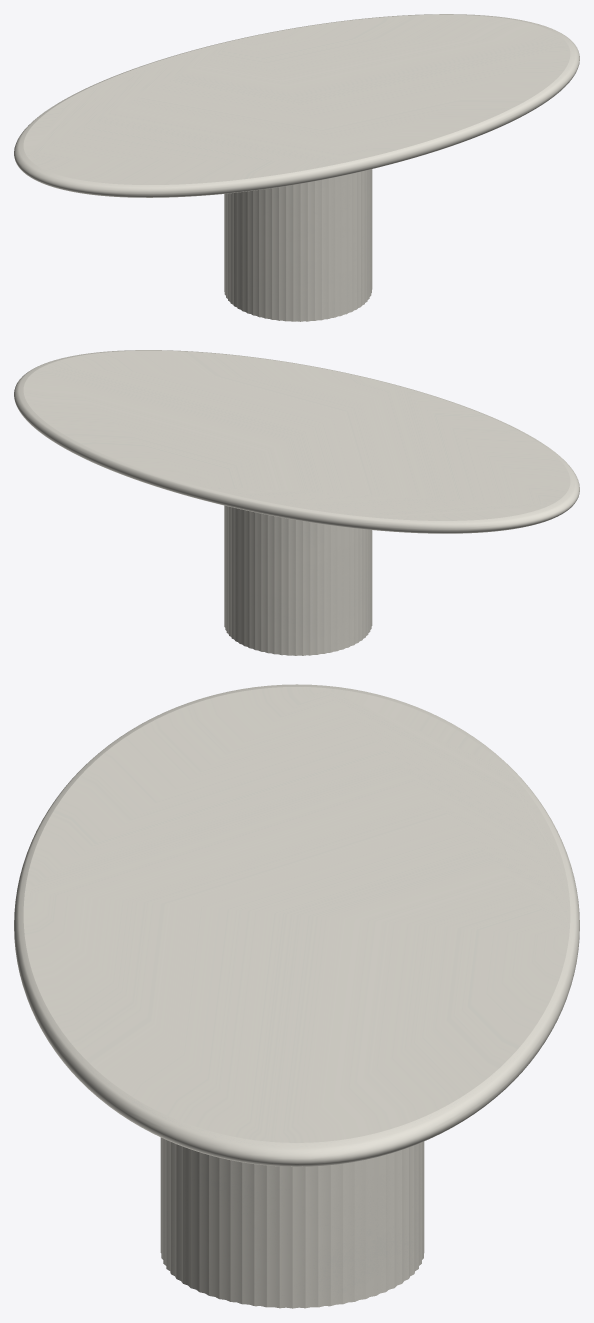
The model's file is pale_ellips_round_ripple.glb.
3 views of the same model, one above another, from view 1: azimuth 30°, elevation 25°; view 2: azimuth 150°, elevation 25°; view 3: azimuth 270°, elevation 25° (orthographic). The views are drawn at different scales.
Visible parts, largest first — view 1: round_ellips, ripple; view 2: round_ellips, ripple; view 3: round_ellips, ripple.
Part boxes in pixels (<box>): round_ellips: <box>14,14,579,197</box>; ripple: <box>224,169,372,321</box>; round_ellips: <box>14,350,579,533</box>; ripple: <box>224,505,372,655</box>; round_ellips: <box>14,684,579,1166</box>; ripple: <box>160,1137,424,1308</box>.
Bounding box in the file's own units: 7.5 × 2.5 × 3.8.
Materials: 1 (1 with a texture image).
